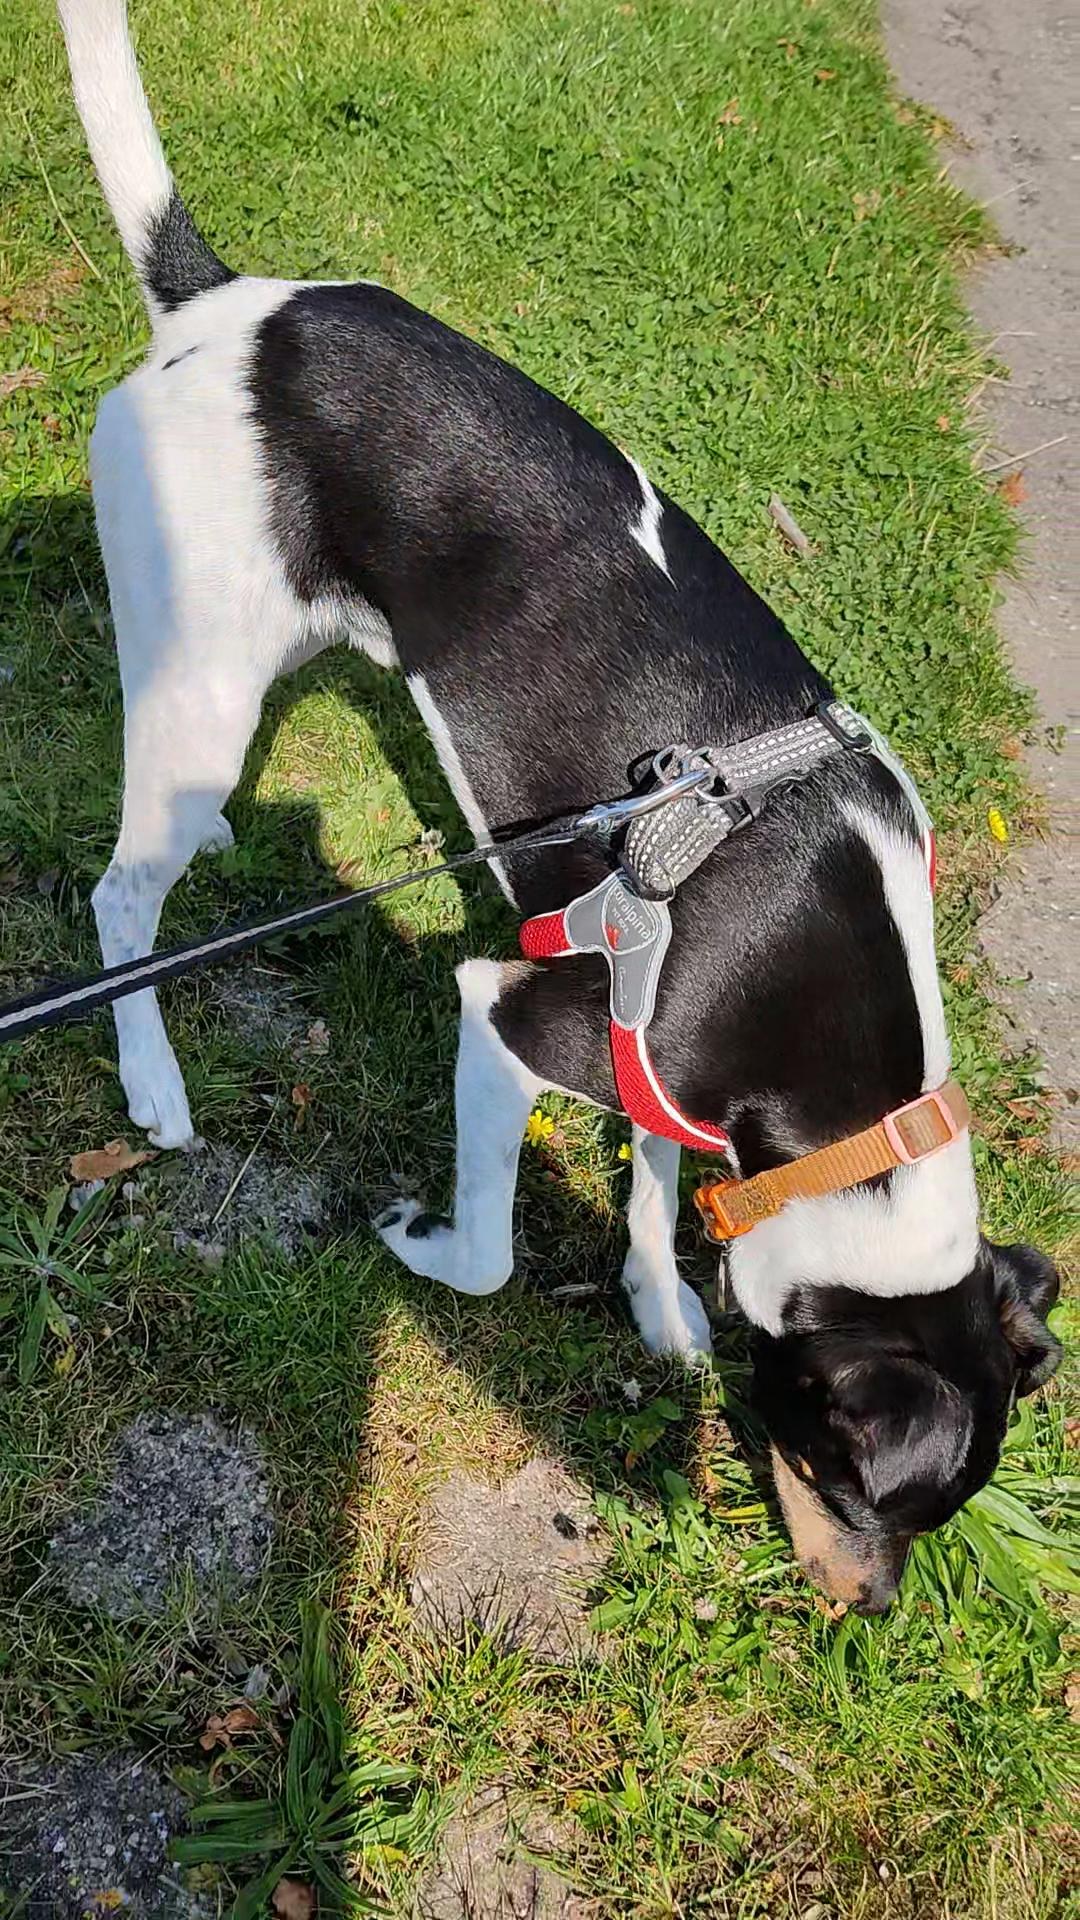Dog: (61, 0, 1065, 1629)
